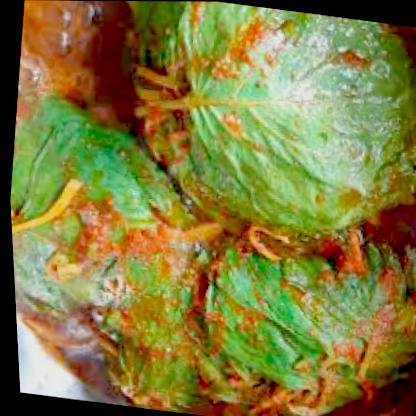pickled sesame leaf: (142, 0, 415, 251), (5, 122, 210, 343), (201, 225, 415, 415)
